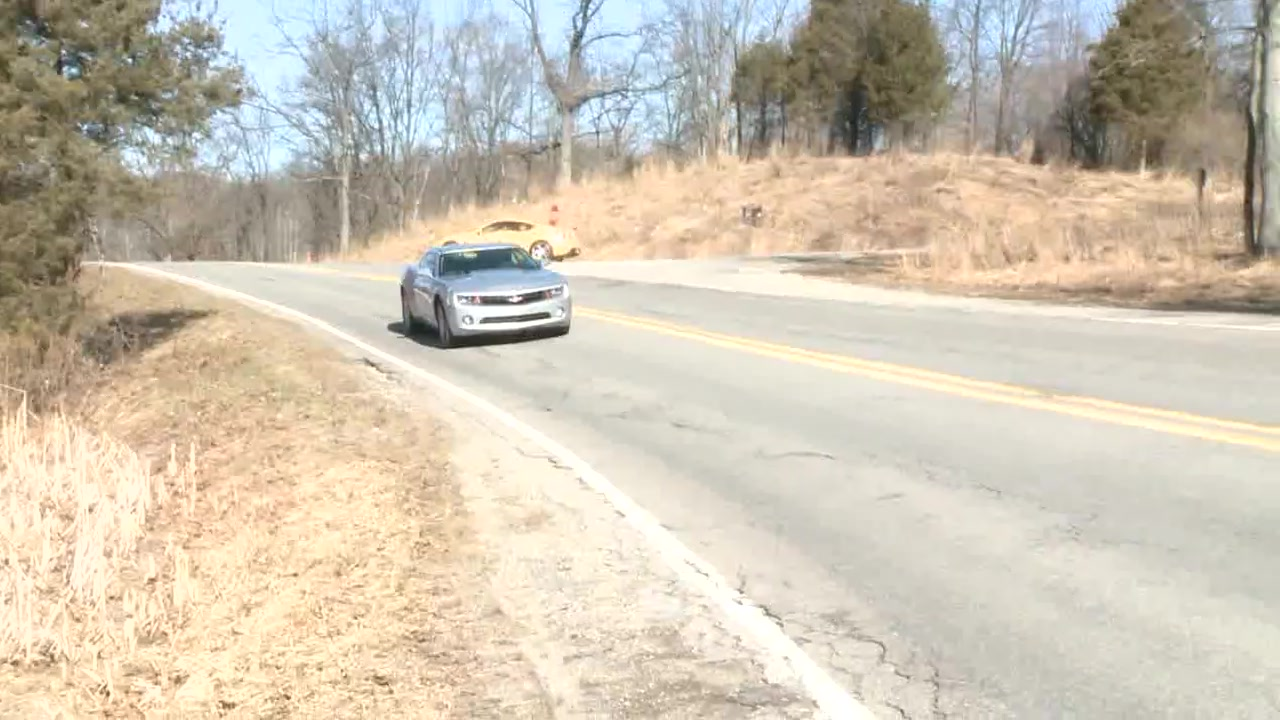car: (398, 244, 578, 344)
